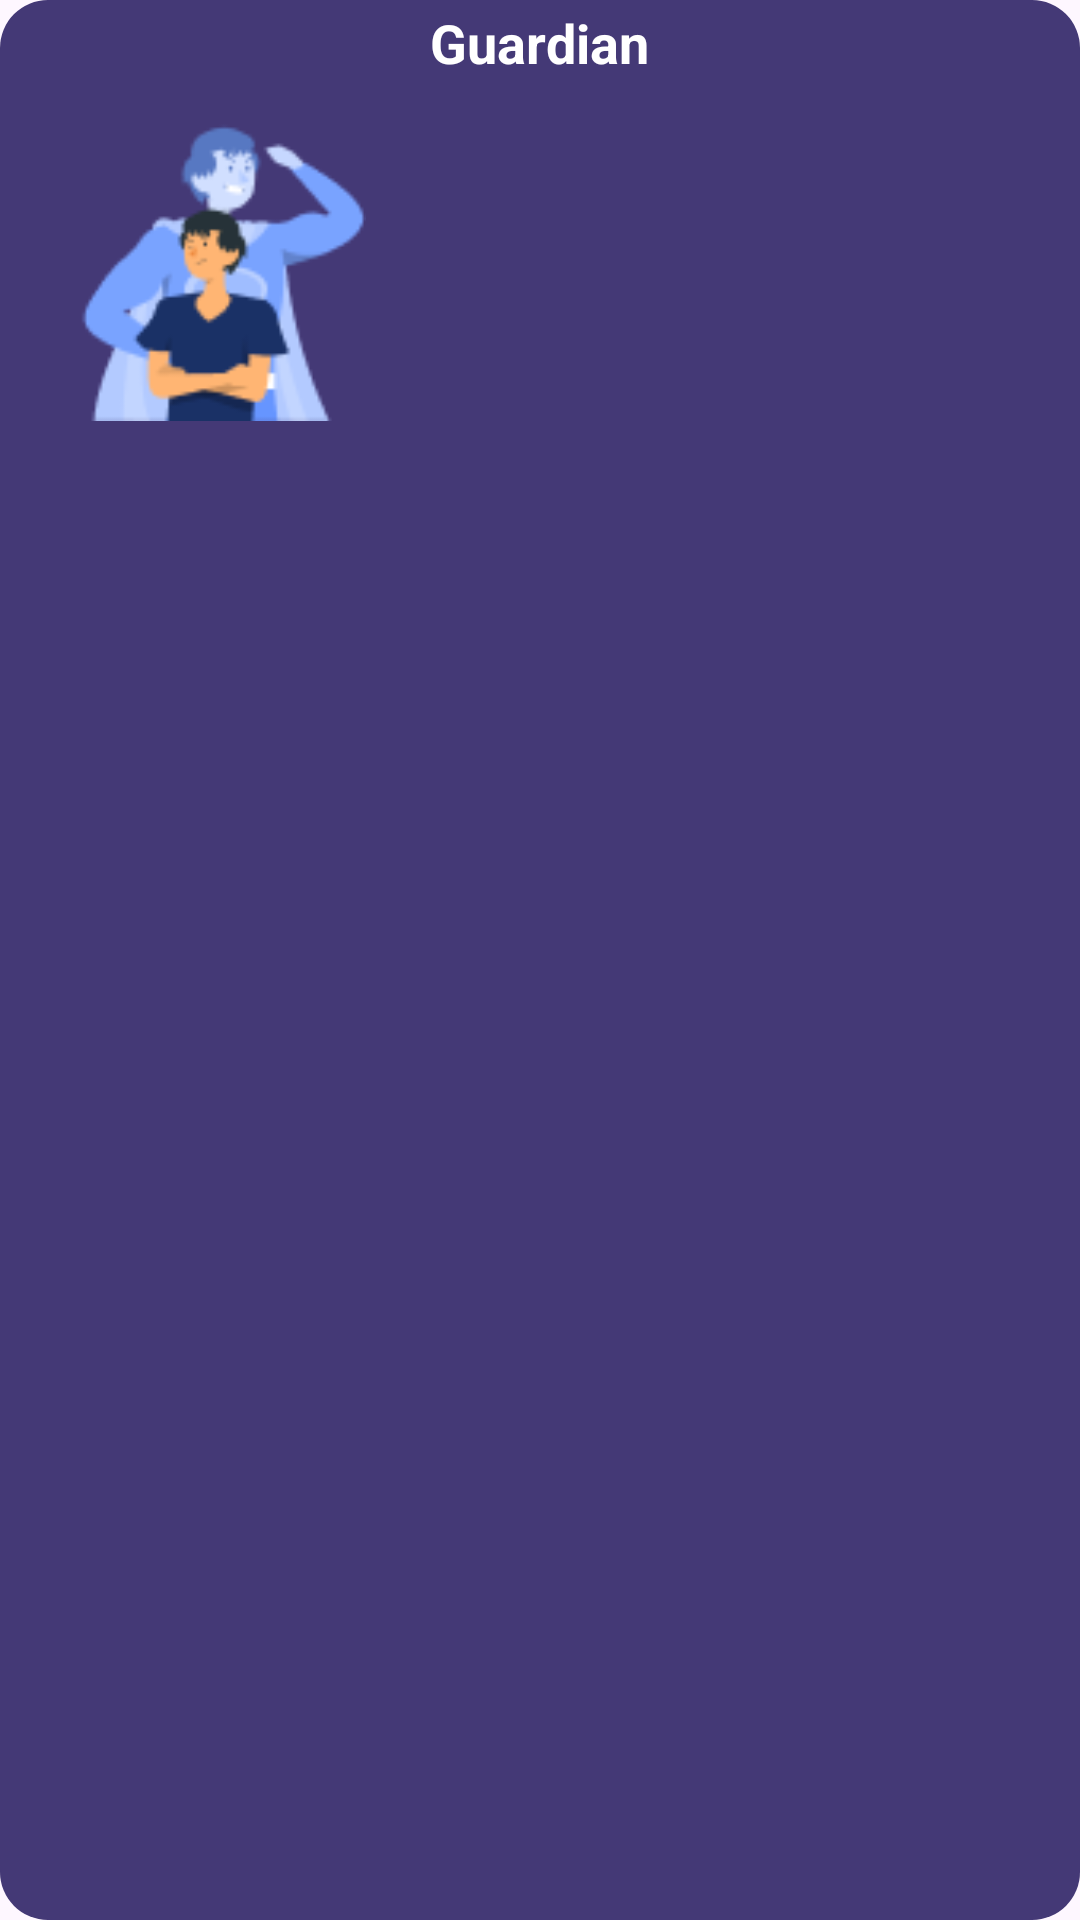

Icons on this 1080px x 1920px Android screen, each with its box as [left=x1, top=y1, right=x2, bottom=y2]:
Profile Image: [left=83, top=127, right=364, bottom=421]
